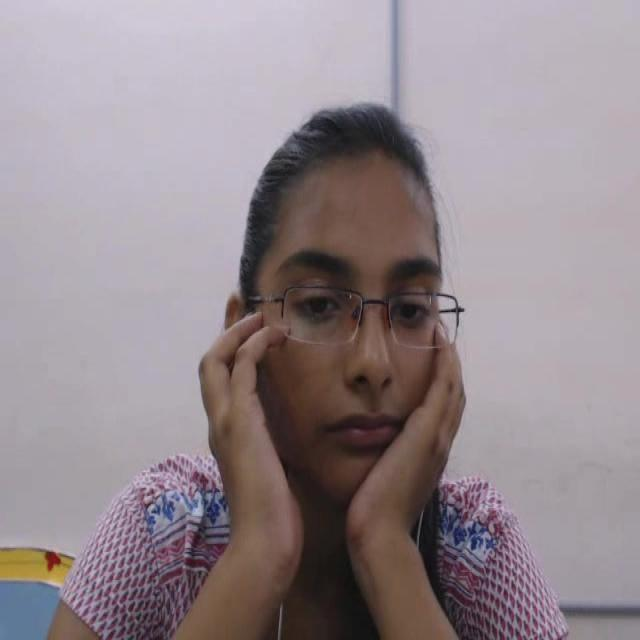Bored: (186, 74, 496, 581)
